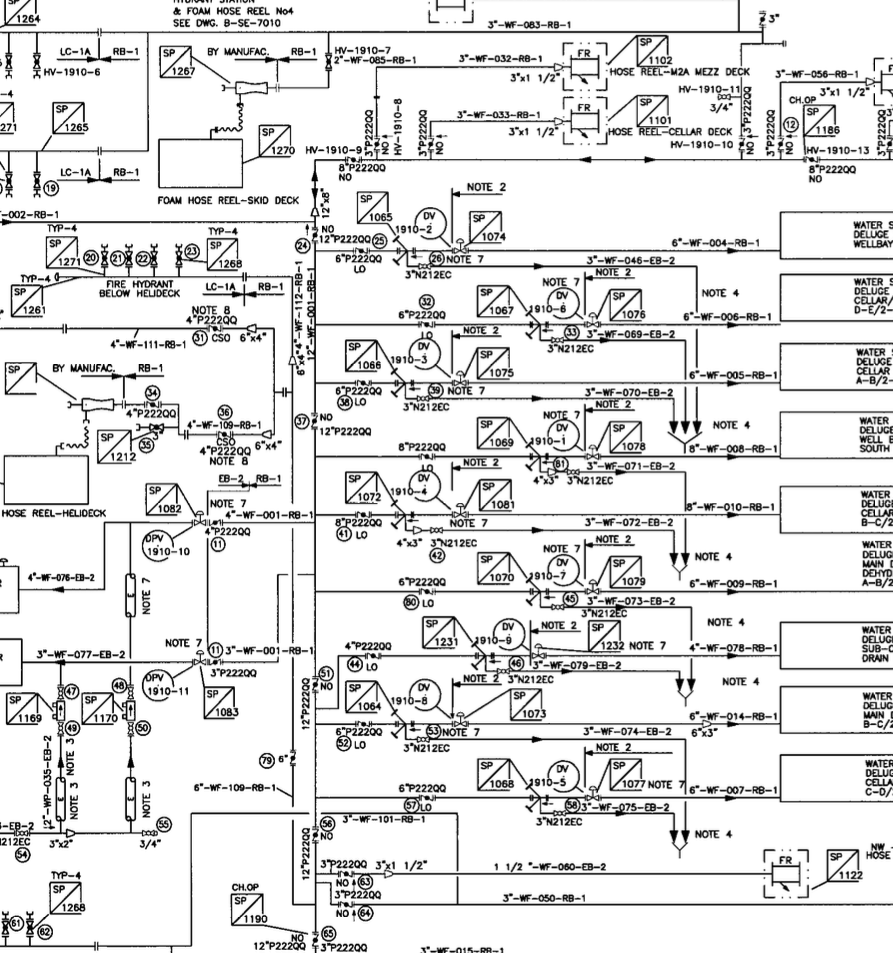Instrument-offset: (392, 199, 450, 243), (138, 527, 195, 570), (527, 750, 581, 793), (390, 332, 445, 373), (526, 283, 582, 322), (390, 676, 445, 714), (141, 667, 194, 706), (471, 614, 529, 649), (387, 470, 444, 503), (529, 419, 582, 453), (527, 554, 584, 585)
